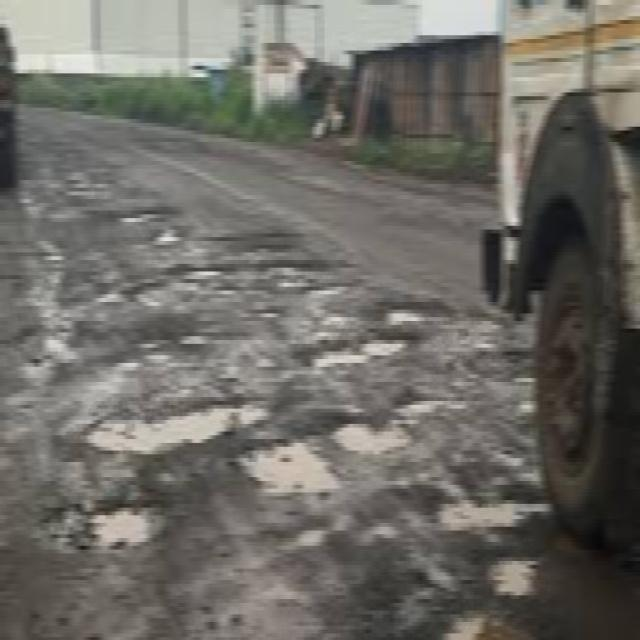Pothole: (457, 542, 640, 640), (77, 380, 261, 444), (0, 244, 68, 416), (24, 475, 142, 559), (263, 252, 388, 326), (294, 328, 430, 392), (210, 443, 341, 509), (321, 410, 428, 470), (436, 469, 553, 522), (158, 262, 238, 314), (106, 203, 196, 247), (369, 300, 474, 335), (88, 282, 134, 317)
